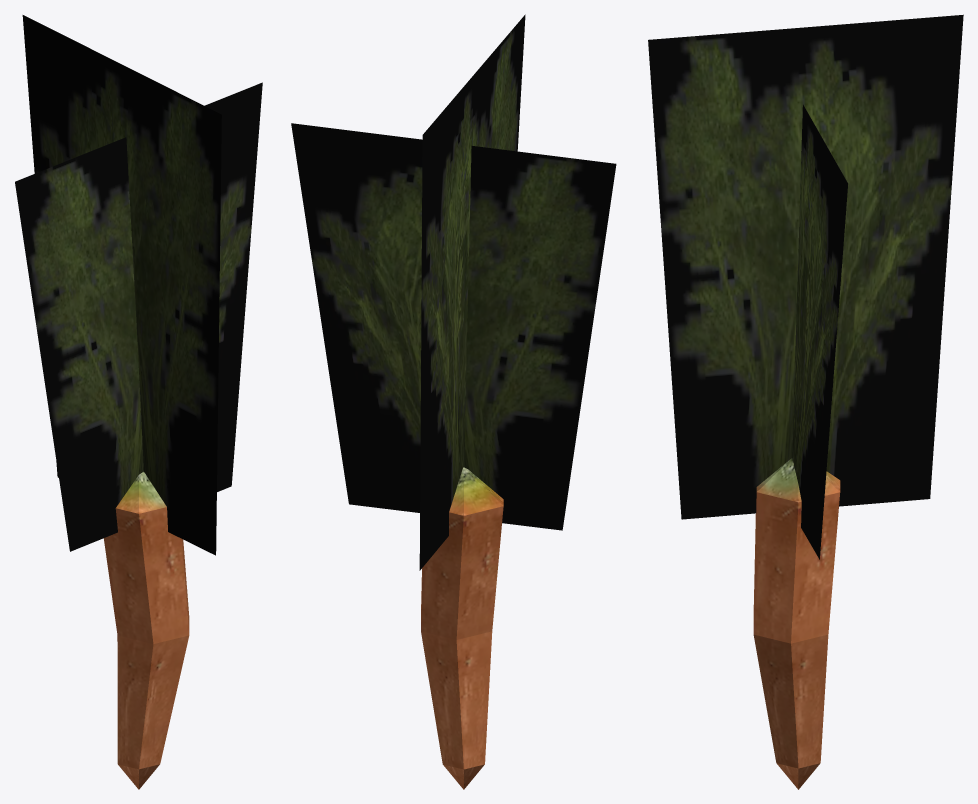
File: GS_NATURE_CARROT_03_GALI.glb
3 renders of one model, left to right at view 1: azimuth 30°, elevation 25°; view 2: azimuth 150°, elevation 25°; view 3: azimuth 270°, elevation 25°, orthographic. The views are drawn at different scales.
Parts seen in each view (by area): view 1: GS_NATURE_CARROT_03_GALI; view 2: GS_NATURE_CARROT_03_GALI; view 3: GS_NATURE_CARROT_03_GALI.
Boxes of the visible parts, x1,y1,x2,y2 form: GS_NATURE_CARROT_03_GALI: (15, 15, 262, 789); GS_NATURE_CARROT_03_GALI: (291, 14, 616, 789); GS_NATURE_CARROT_03_GALI: (648, 14, 963, 789).
Bounding box in the file's own units: 0.348 × 0.8368 × 0.3168.
Materials: 2 (2 with a texture image).
